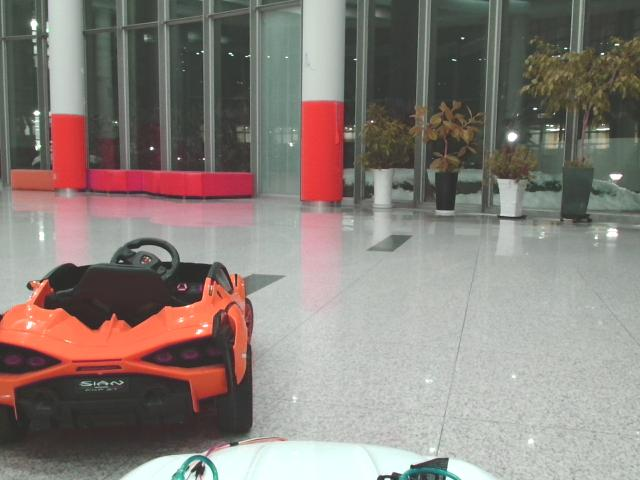car: (1, 238, 254, 454)
